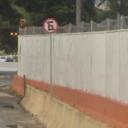NoEstacionar: (43, 16, 60, 36)
